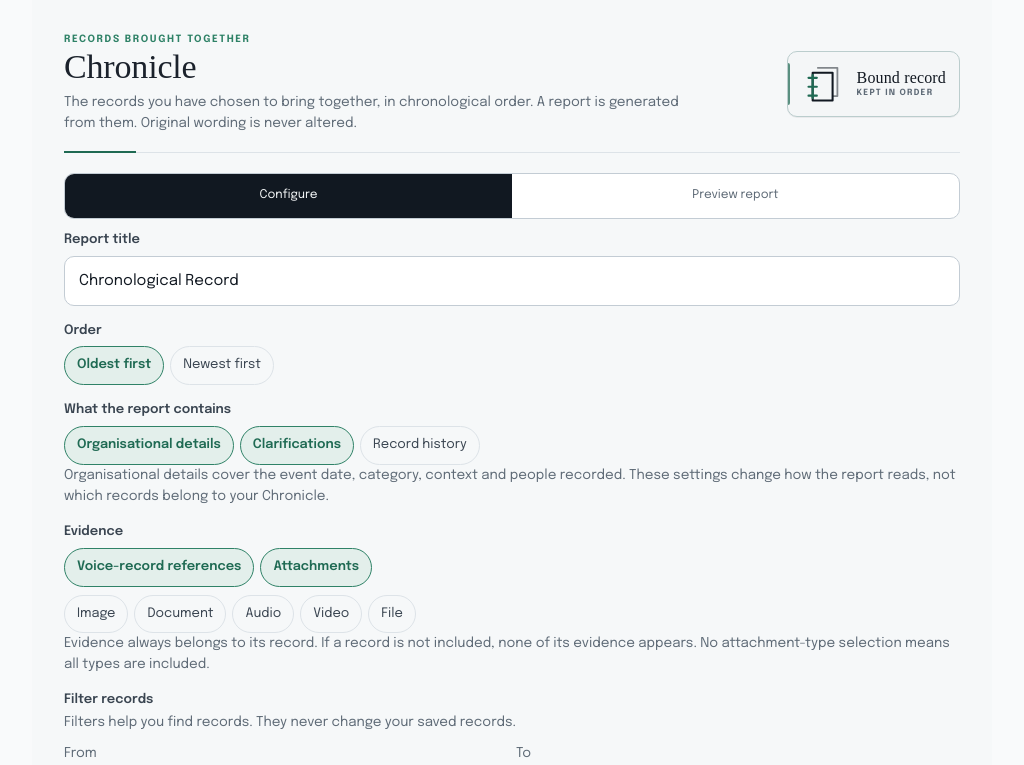
Test case: Chronicle export delivery › disables export when nothing is included, and never generates
Later steps or results of the test are not shown.
Click the button "Preview report".
click(736, 196)  # box [512,174,959,218]
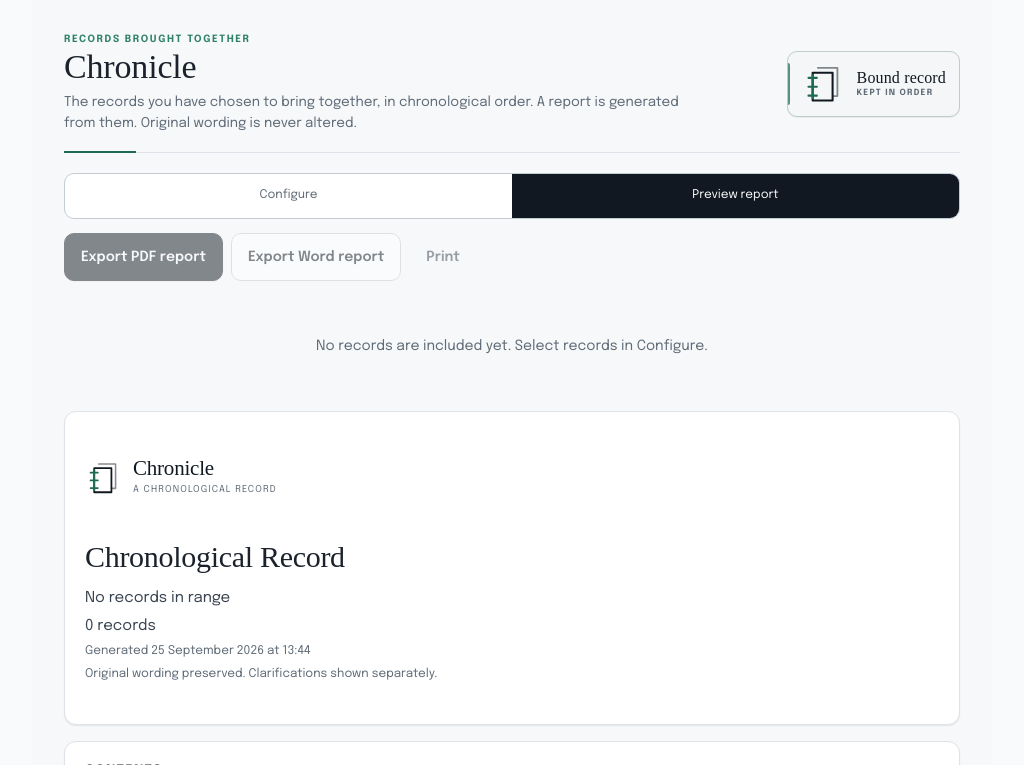
Expected: the button "Export PDF report" is disabled, [64,233,223,281]
